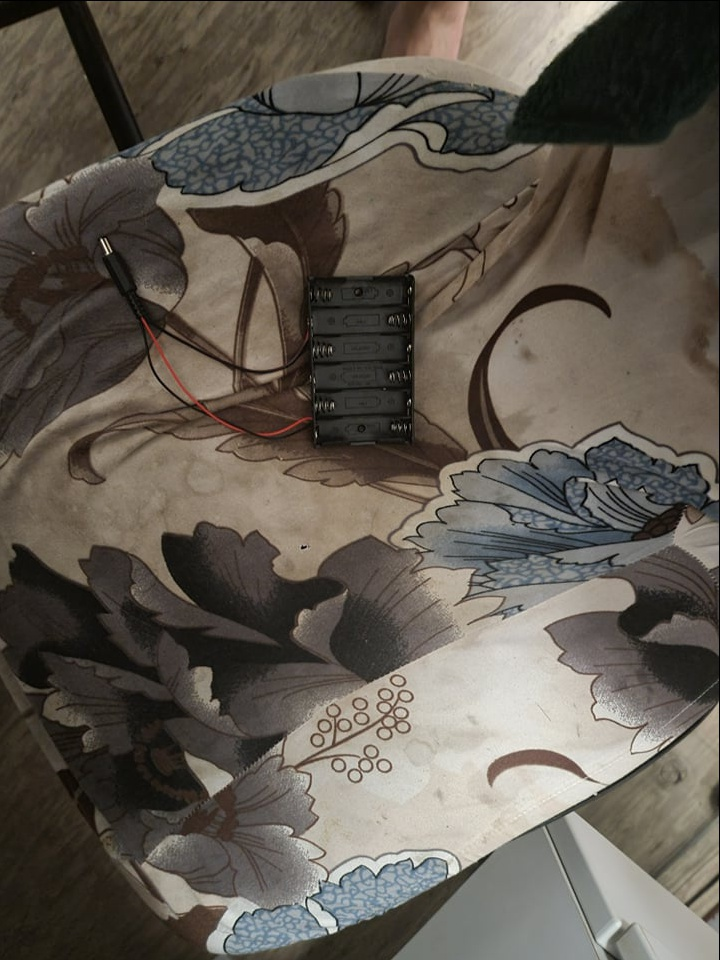BATTERY BOX: (306, 268, 416, 453)
